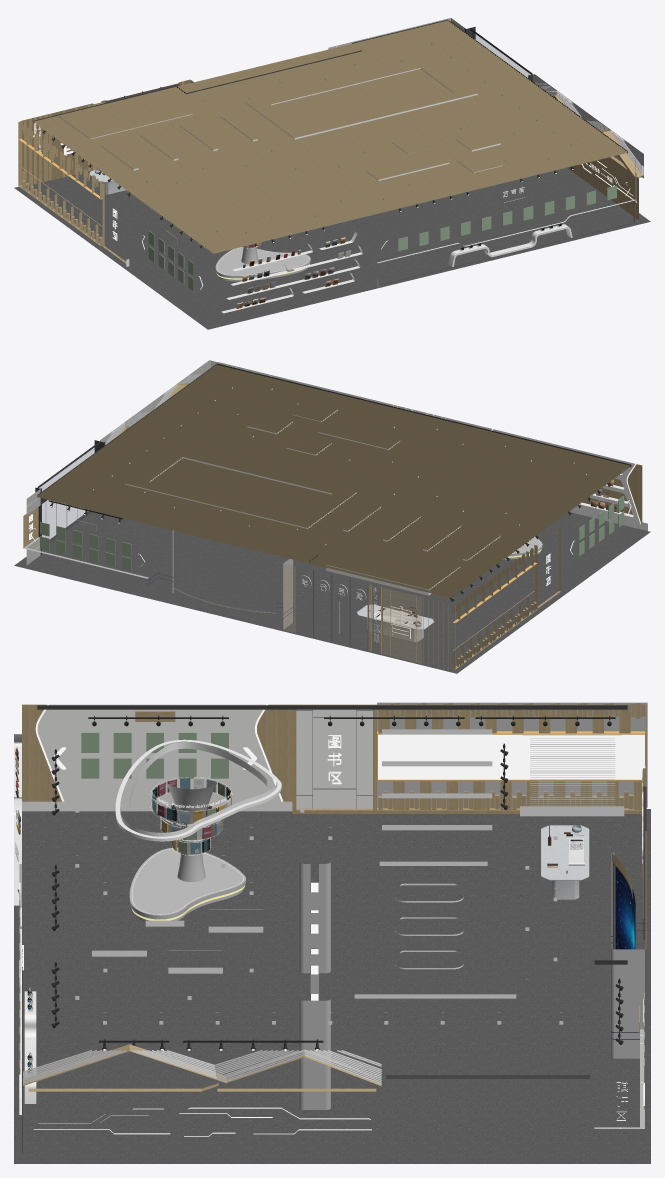
The model's file is reading_512.glb.
3 renders of one model, top to bottom at view 1: azimuth 30°, elevation 25°; view 2: azimuth 150°, elevation 25°; view 3: azimuth 270°, elevation 25°, orthographic. The views are drawn at different scales.
Parts seen in each view (by area): view 1: SM_LM04_Wood, SM_LM07_Ground, SM_LM03_Wood, SM_LM05_Gray, SM_LM06_Gray, SM_LM01_White, SM_LM02_Black, SM_Wall_07_02, SM_Emissive_01; view 2: SM_LM04_Wood, SM_LM07_Ground, SM_LM03_Wood, SM_LM05_Gray, SM_LM06_Gray, SM_LM01_White, SM_LM02_Black, SM_LM08_04, SM_Glass, SM_Emissive_01, SM_LM08_01; view 3: SM_LM07_Ground, SM_LM05_Gray, SM_LM06_Gray, SM_LM03_Wood, SM_LM01_White, SM_ZB_03, SM_LM02_Black, SM_Emissive_01, SM_LM08_04, SM_ZB_02, SM_Books_Center_01, SM_LM08_03 (+2 smaller).
Part boxes in pixels (<box>): SM_LM04_Wood: <box>34,20,626,253</box>; SM_LM07_Ground: <box>14,167,650,329</box>; SM_LM03_Wood: <box>18,79,643,263</box>; SM_LM05_Gray: <box>190,18,643,281</box>; SM_LM06_Gray: <box>112,156,636,313</box>; SM_LM01_White: <box>58,43,571,233</box>; SM_LM02_Black: <box>33,19,635,285</box>; SM_Wall_07_02: <box>236,237,351,308</box>; SM_Emissive_01: <box>60,26,637,289</box>; SM_LM04_Wood: <box>37,364,630,598</box>; SM_LM07_Ground: <box>14,510,650,673</box>; SM_LM03_Wood: <box>23,383,642,669</box>; SM_LM05_Gray: <box>23,360,542,629</box>; SM_LM06_Gray: <box>209,360,647,643</box>; SM_LM01_White: <box>93,387,586,595</box>; SM_LM02_Black: <box>35,363,631,563</box>; SM_LM08_04: <box>357,604,434,641</box>; SM_Glass: <box>40,445,97,541</box>; SM_Emissive_01: <box>28,365,641,638</box>; SM_LM08_01: <box>313,570,368,650</box>; SM_LM07_Ground: <box>14,809,650,1163</box>; SM_LM05_Gray: <box>23,702,647,1128</box>; SM_LM06_Gray: <box>14,704,643,1114</box>; SM_LM03_Wood: <box>22,703,646,1091</box>; SM_LM01_White: <box>75,727,624,1024</box>; SM_ZB_03: <box>378,734,644,779</box>; SM_LM02_Black: <box>22,705,627,1153</box>; SM_Emissive_01: <box>19,704,645,1136</box>; SM_LM08_04: <box>541,825,589,899</box>; SM_ZB_02: <box>615,867,635,949</box>; SM_Books_Center_01: <box>152,777,231,822</box>; SM_LM08_03: <box>377,731,645,836</box>.
Size of the model in its own units: 20.84 by 3.13 by 15.8.
29 materials, 11 textured.
